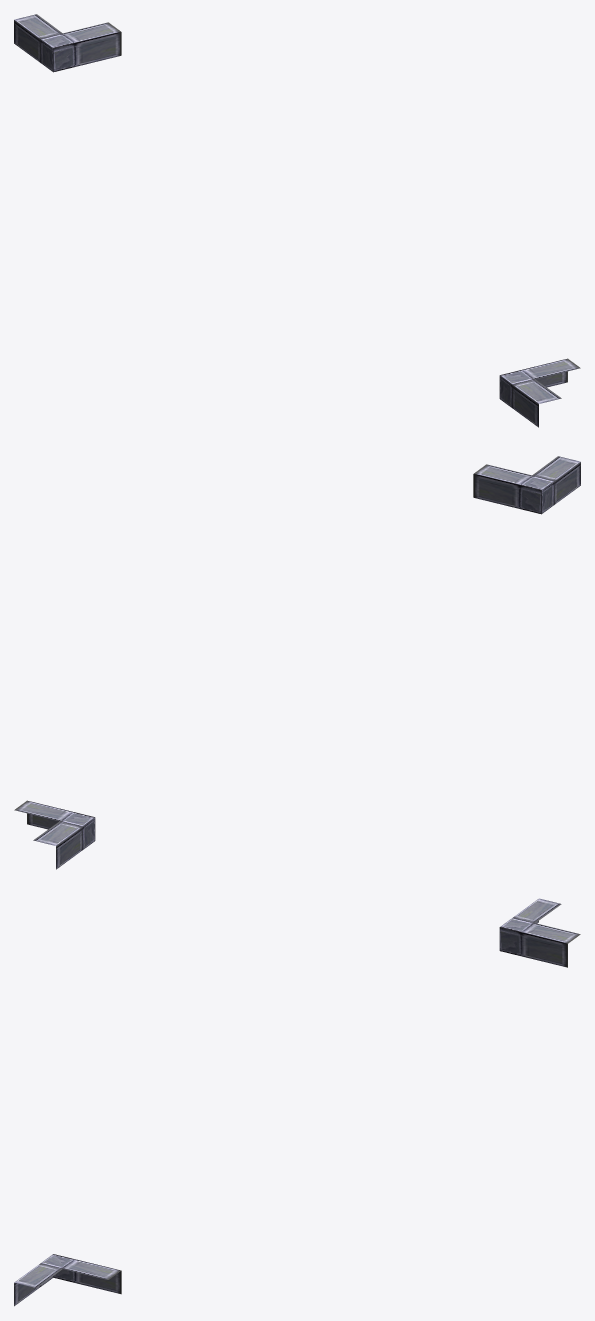
File: Dungeon_plith_corner2.FBX
The picture shows the model from 3 angles, top to bottom: view 1: azimuth 30°, elevation 25°; view 2: azimuth 150°, elevation 25°; view 3: azimuth 330°, elevation 25°; orthographic projection.
Visible parts, largest first — view 1: Object023; view 2: Object023; view 3: Object023.
Boxes of the visible parts, x1=… form: Object023: x1=14, y1=14, x2=580, y2=427; Object023: x1=14, y1=456, x2=580, y2=869; Object023: x1=14, y1=898, x2=580, y2=1306.
Bounding box in the file's own units: 75 × 25 × 1000.
Materials: 1 (1 with a texture image).
